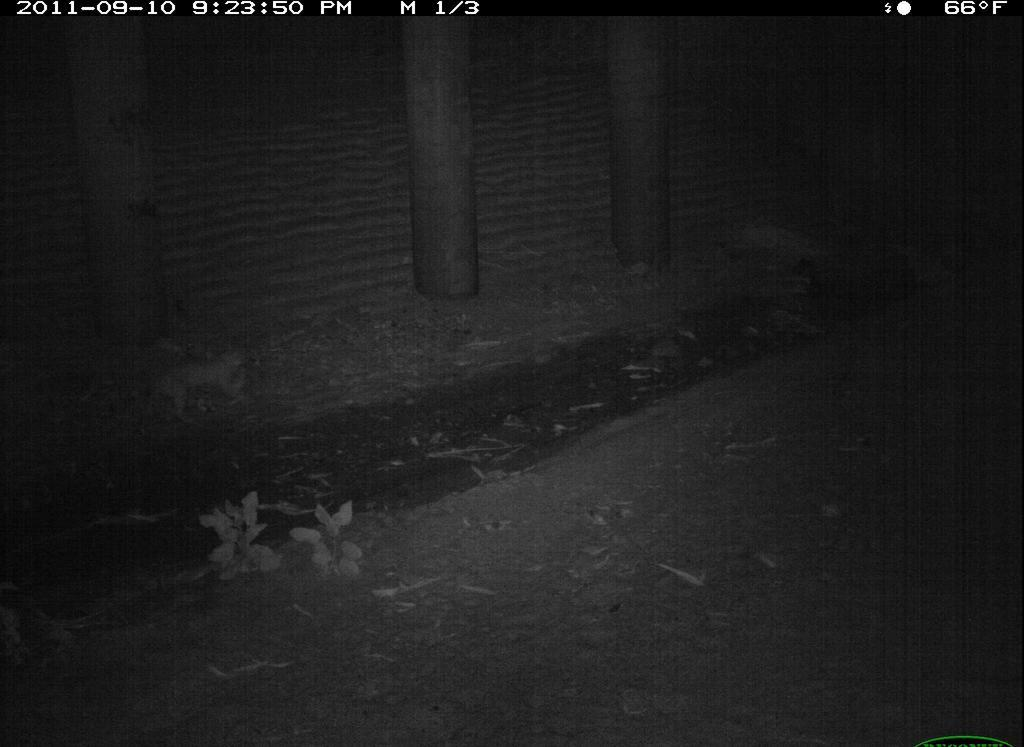bobcat: (286, 667, 527, 747)
